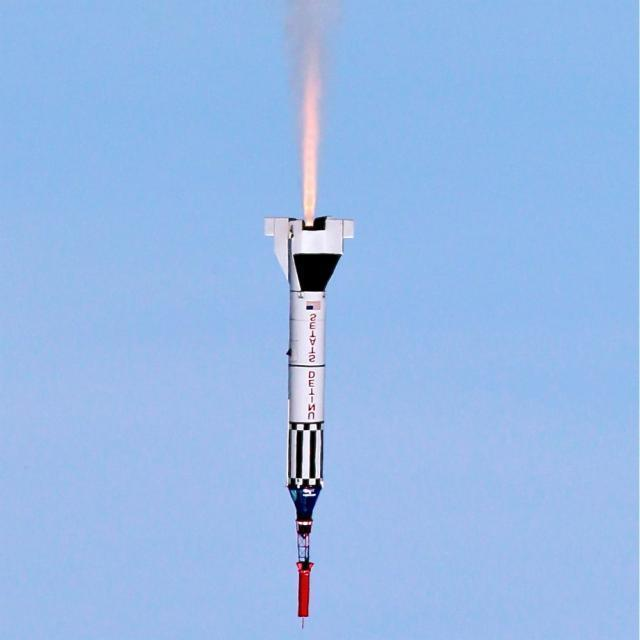missile: (261, 217, 353, 628)
